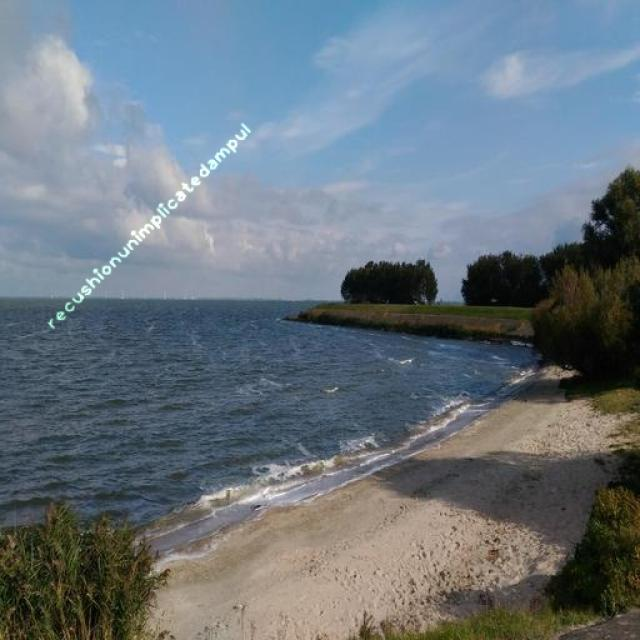watermark: (47, 115, 252, 332)
